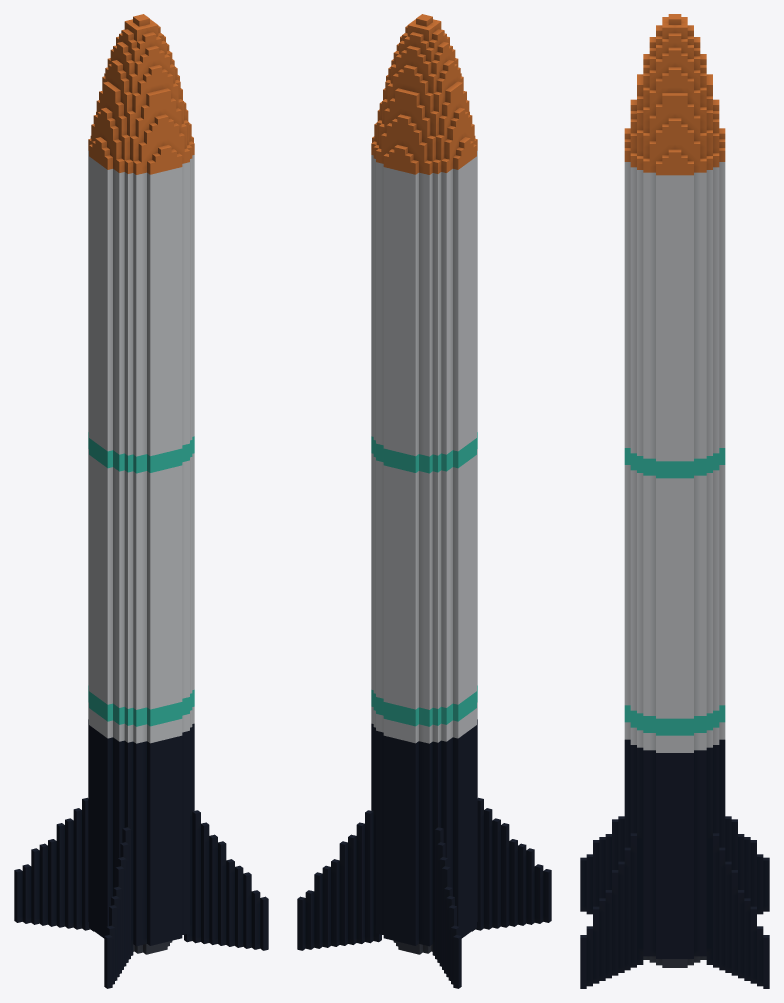
File: rocket_e4.glb
3 renders of one model, left to right at view 1: azimuth 30°, elevation 25°; view 2: azimuth 150°, elevation 25°; view 3: azimuth 270°, elevation 25°, orthographic.
Parts seen in each view (by area): view 1: Base; view 2: Base; view 3: Base.
Boxes of the visible parts, x1,y1,x2,y2 form: Base: (14, 14, 268, 988); Base: (297, 14, 551, 988); Base: (580, 14, 769, 988).
Size of the model in its own units: 3 by 16.4 by 3.
